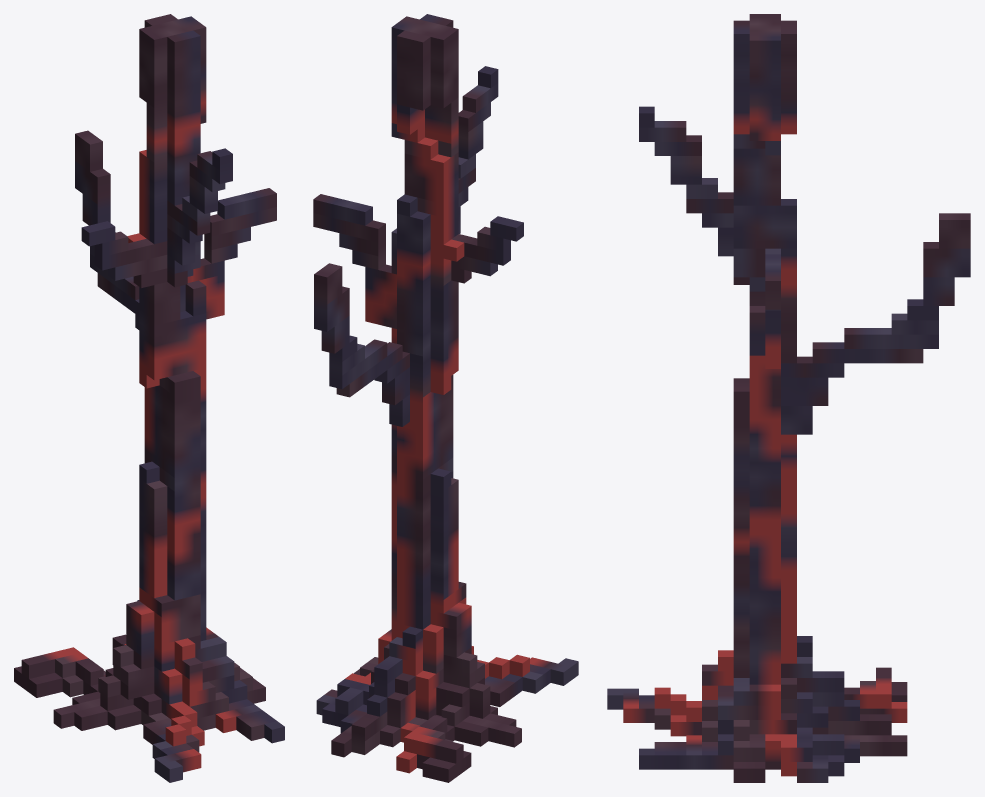
Rendered from Tree_dead_state_4.fbx.
3 renders of one model, left to right at view 1: azimuth 30°, elevation 25°; view 2: azimuth 150°, elevation 25°; view 3: azimuth 270°, elevation 25°, orthographic. The views are drawn at different scales.
Parts seen in each view (by area): view 1: Tree_dead_state_4; view 2: Tree_dead_state_4; view 3: Tree_dead_state_4.
Part boxes in pixels (x1,y1,x2,y2): Tree_dead_state_4: [14, 14, 284, 782]; Tree_dead_state_4: [313, 14, 578, 782]; Tree_dead_state_4: [607, 14, 970, 782].
Size of the model in its own units: 16 by 50 by 23.
Materials: 1 (1 with a texture image).
